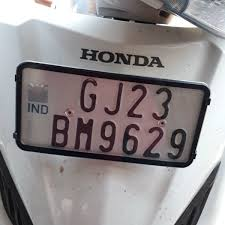numberplate: (16, 60, 209, 169)
